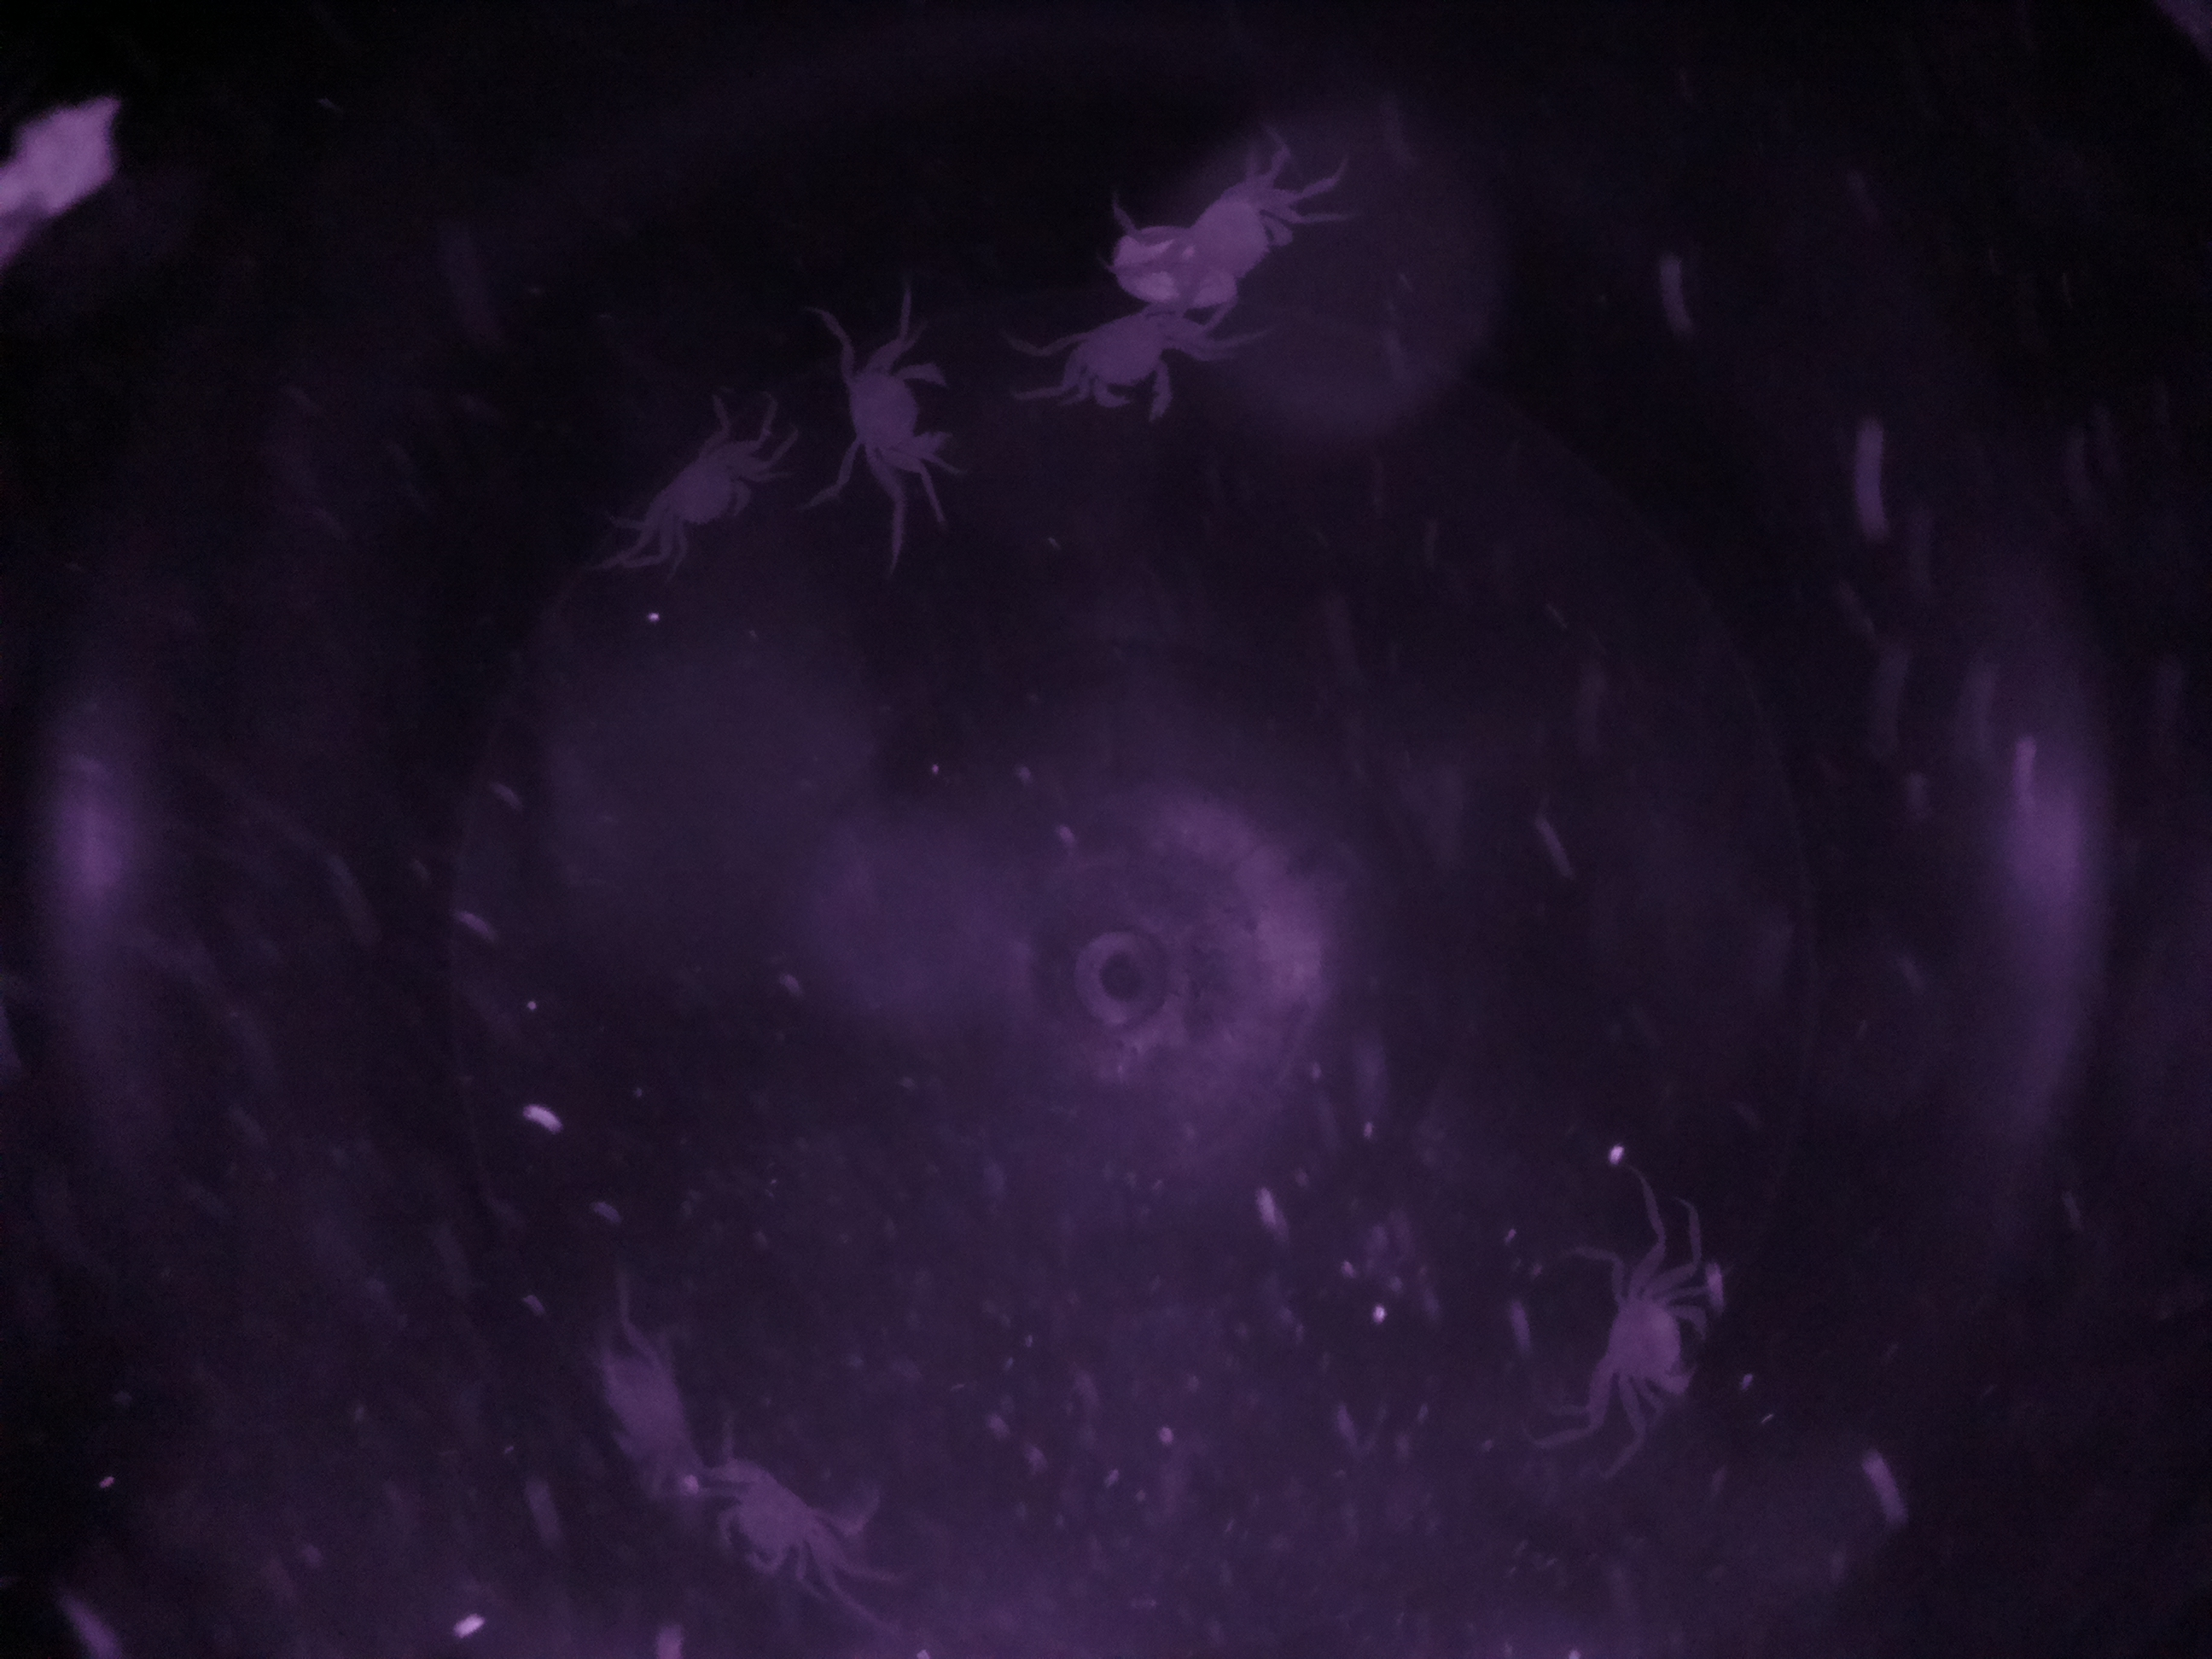Crab: (1573, 1204, 1733, 1446), (808, 308, 988, 497), (604, 404, 787, 572)
